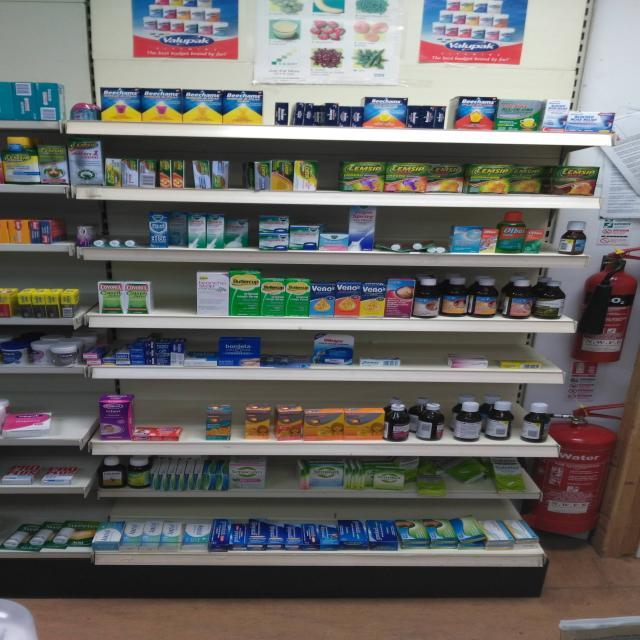void: (58, 380, 88, 437), (155, 264, 188, 311), (404, 334, 439, 368)
